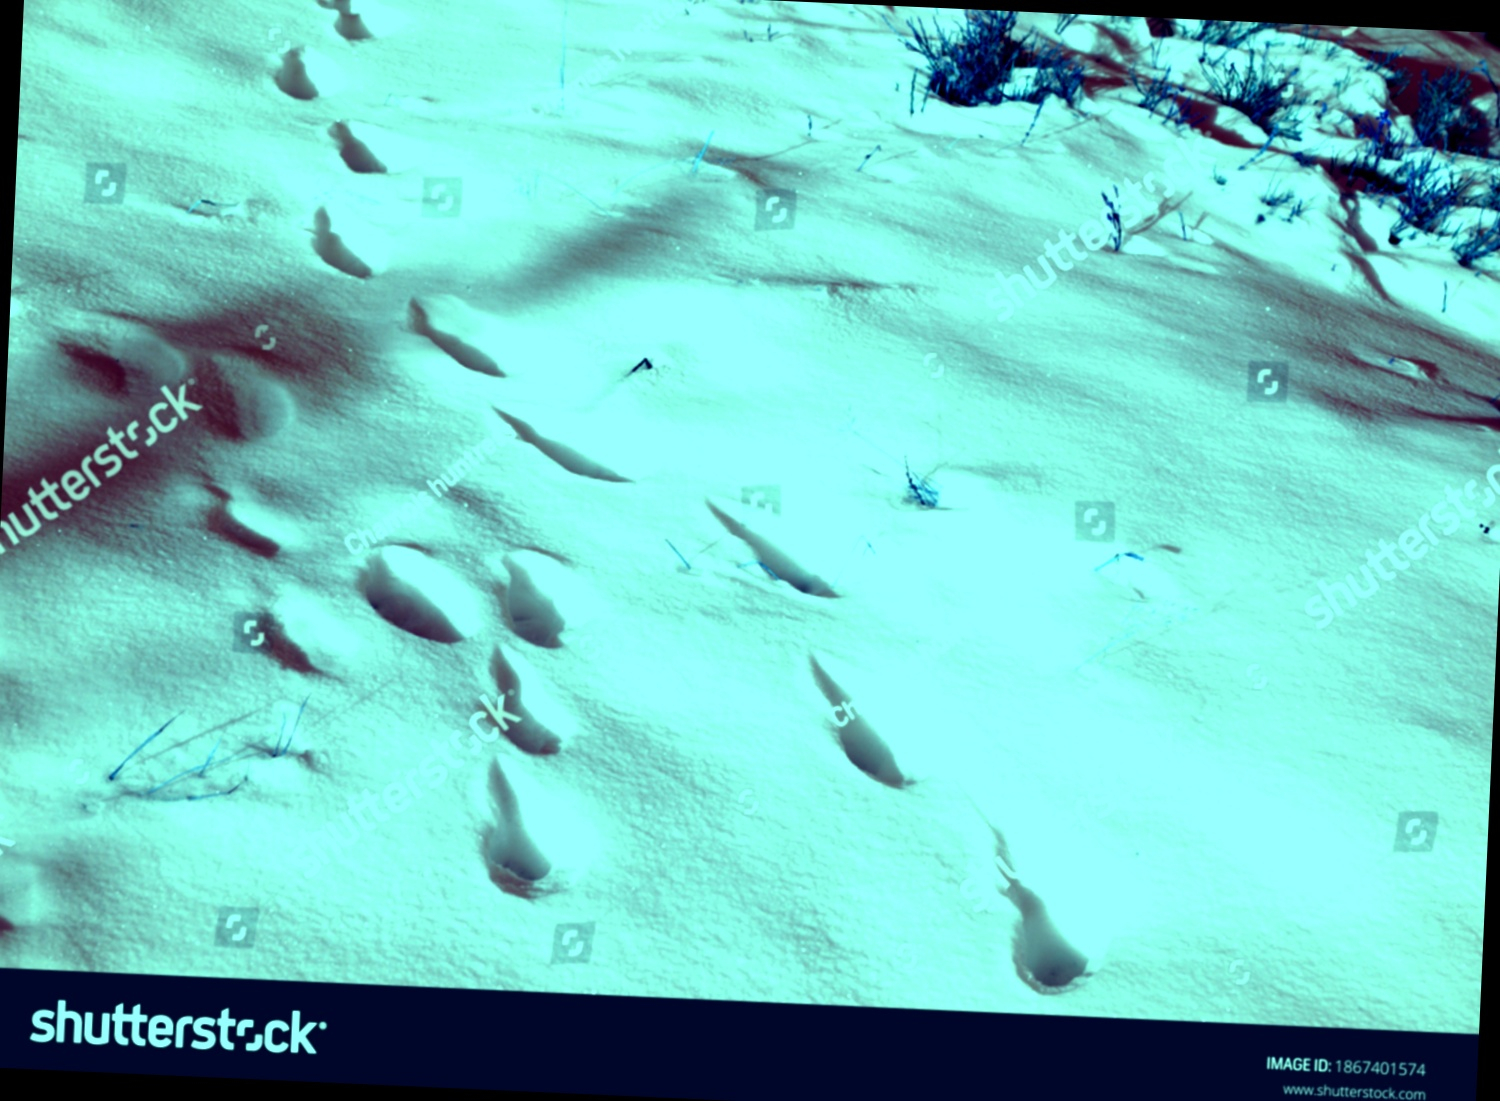lapin: (26, 305, 316, 451), (345, 522, 625, 652), (956, 809, 1130, 1017), (786, 631, 958, 797), (695, 480, 866, 606), (453, 753, 580, 913), (480, 393, 664, 501), (462, 638, 590, 758), (405, 280, 536, 381), (174, 470, 295, 570), (293, 179, 394, 298), (316, 113, 419, 179), (261, 31, 344, 106)
